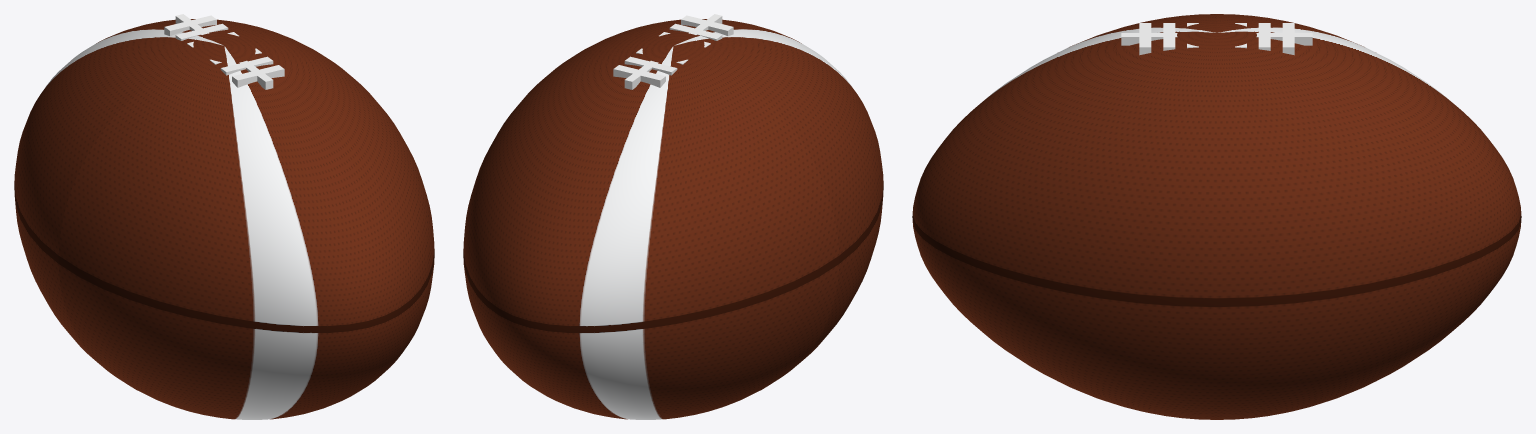
File: football.glb
3 views of the same model, side by side, from view 1: azimuth 30°, elevation 25°; view 2: azimuth 150°, elevation 25°; view 3: azimuth 270°, elevation 25° (orthographic). The views are drawn at different scales.
Size of the model in its own units: 1.7 by 1.7 by 2.55.
2 materials, 1 textured.
